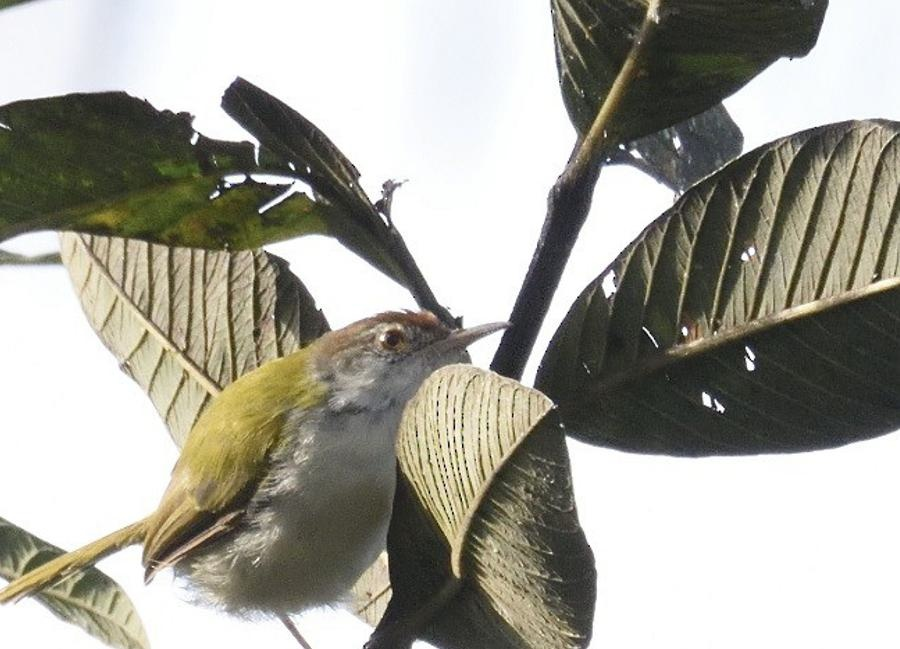tailorbird: (51, 291, 525, 642)
